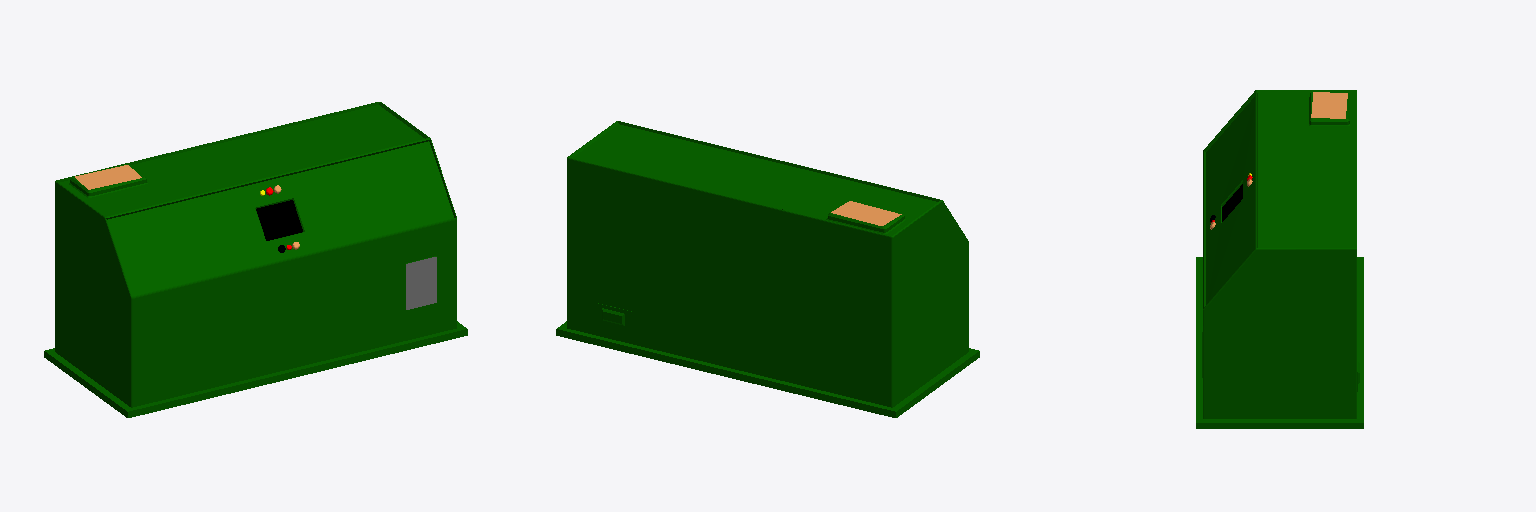
File: CNCMachine.obj
3 views of the same model, side by side, from view 1: azimuth 30°, elevation 25°; view 2: azimuth 150°, elevation 25°; view 3: azimuth 270°, elevation 25° (orthographic).
Visible parts, largest first — view 1: Factory_Machine_Mesh; view 2: Factory_Machine_Mesh; view 3: Factory_Machine_Mesh.
Boxes of the visible parts, x1=… form: Factory_Machine_Mesh: x1=44, y1=102, x2=467, y2=417; Factory_Machine_Mesh: x1=556, y1=121, x2=979, y2=417; Factory_Machine_Mesh: x1=1196, y1=90, x2=1363, y2=428.
Bounding box in the file's own units: 4 × 2.04 × 1.7.